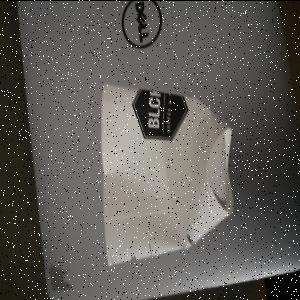Cup: (101, 80, 237, 269)
